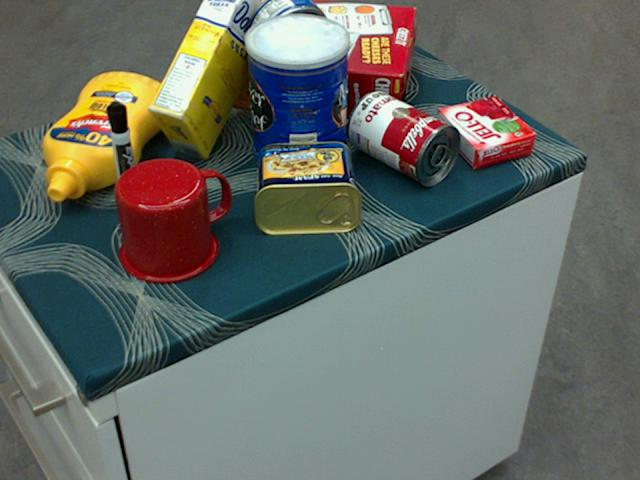cracker_box: (213, 0, 414, 122)
gelatin_box: (435, 97, 535, 167)
large_marker: (104, 101, 142, 213)
master_chef_can: (245, 14, 349, 183)
mug: (115, 156, 231, 282)
mustard_bottle: (42, 72, 171, 201)
potted_meat_can: (254, 138, 362, 236)
sugar_box: (148, 0, 270, 161)
tomato_soup_can: (347, 90, 461, 186)
tuna_fish_can: (246, 0, 329, 73)
